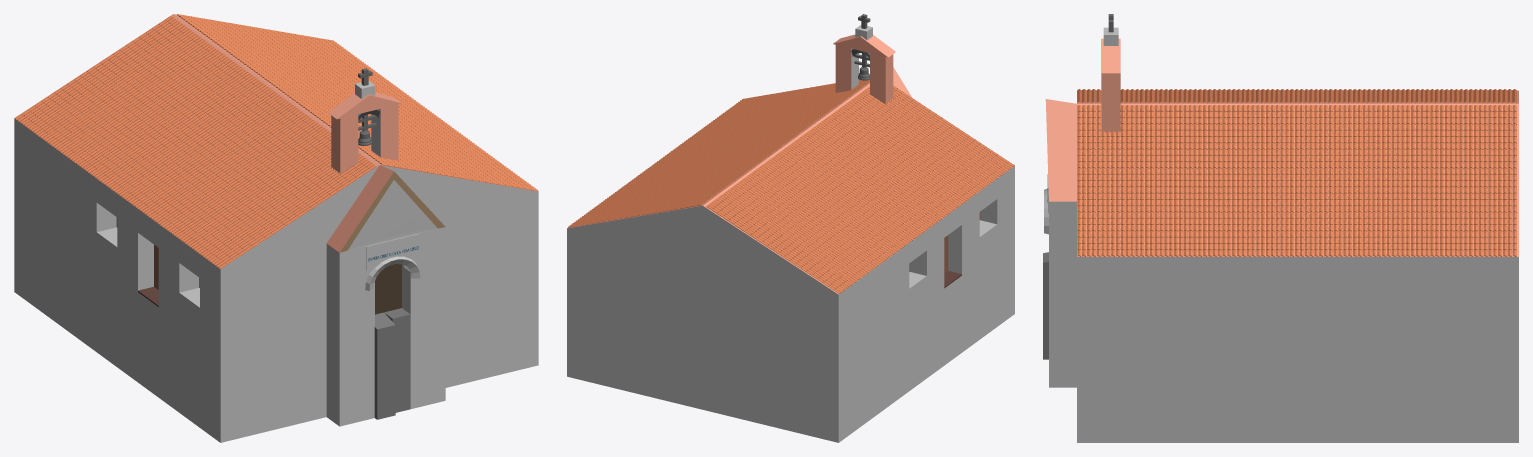
The model's file is Ermita_Cristo_Veracruz_Fix_2.fbx.
3 views of the same model, side by side, from view 1: azimuth 30°, elevation 25°; view 2: azimuth 150°, elevation 25°; view 3: azimuth 270°, elevation 25° (orthographic). The views are drawn at different scales.
Parts seen in each view (by area): view 1: Cube.085, Cube.003, Cube.038, Torus.012; view 2: Cube.085, Cube.003, Cube.038; view 3: Cube.085, Cube.003, Cube.038.
Part boxes in pixels (x1,y1,x2,y2): Cube.085: [14, 14, 538, 442]; Cube.003: [15, 14, 537, 268]; Cube.038: [328, 68, 401, 173]; Torus.012: [365, 256, 420, 290]; Cube.085: [567, 67, 1014, 442]; Cube.003: [568, 79, 1014, 293]; Cube.038: [833, 14, 895, 104]; Cube.085: [1043, 90, 1518, 442]; Cube.003: [1077, 89, 1516, 256]; Cube.038: [1101, 14, 1120, 132].
Bounding box in the file's own units: 2207 × 2136 × 2665.
